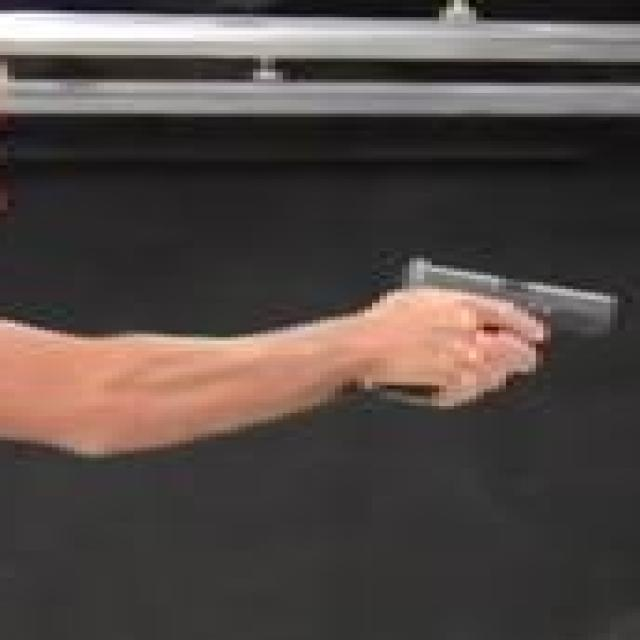Guns: (372, 250, 627, 392)
